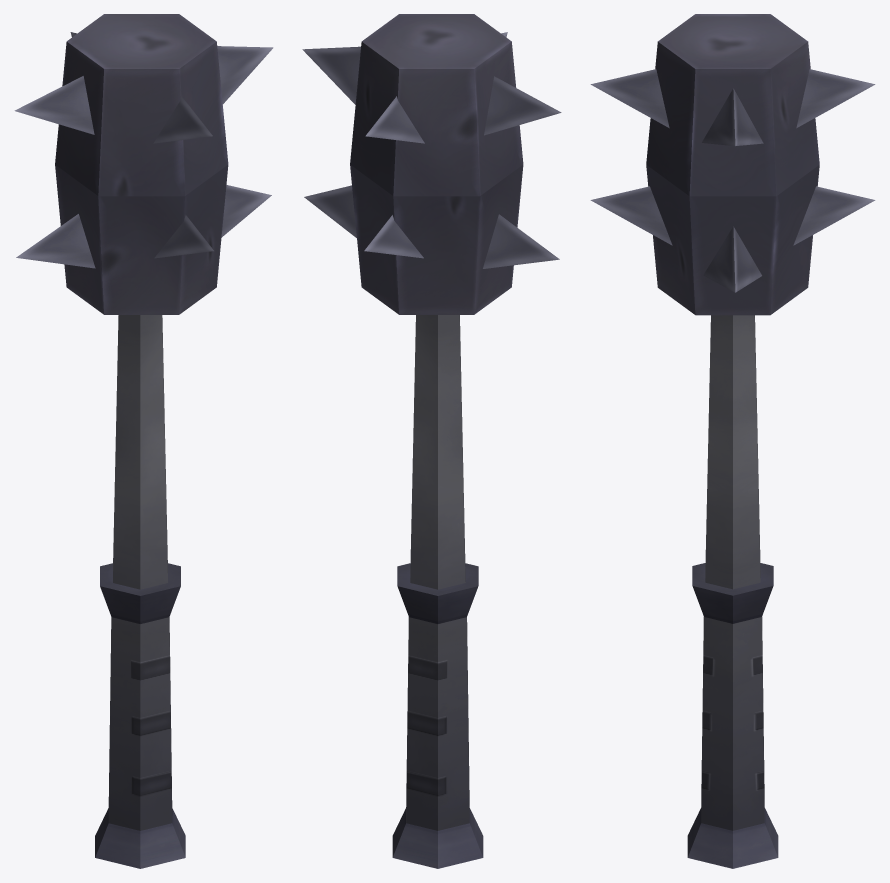
Rendered from mace_lvl_01_(2).fbx.
3 views of the same model, side by side, from view 1: azimuth 30°, elevation 25°; view 2: azimuth 150°, elevation 25°; view 3: azimuth 270°, elevation 25° (orthographic).
Visible parts, largest first — view 1: mace_lvl_01; view 2: mace_lvl_01; view 3: mace_lvl_01.
Part boxes in pixels (box(x1,y1,x2,y2)): mace_lvl_01: box(14, 14, 273, 868); mace_lvl_01: box(302, 14, 561, 868); mace_lvl_01: box(590, 14, 875, 868).
Size of the model in its own units: 1.77 by 5.24 by 1.68.
